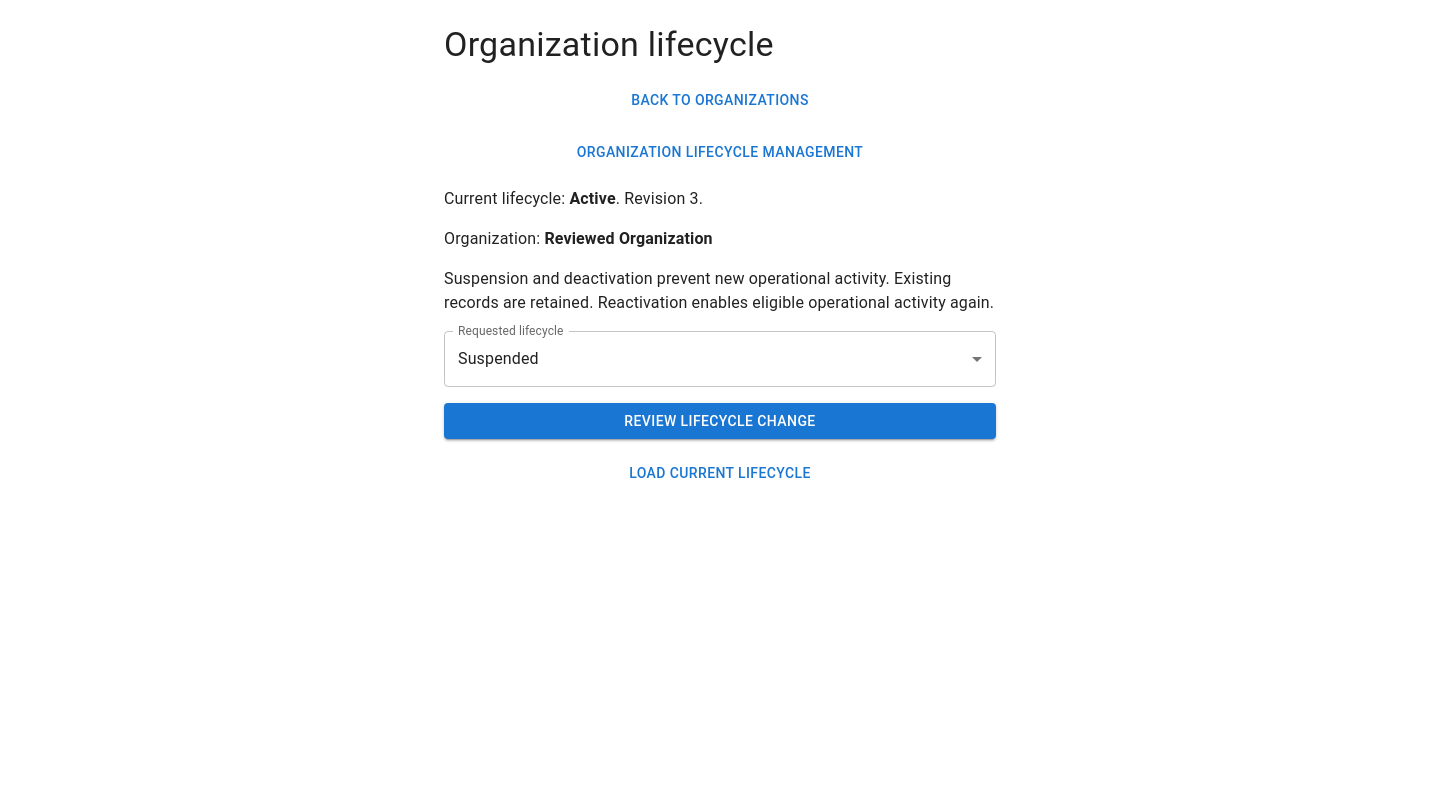
confirms one bound revision/key and acknowledges original state without claiming latest state
Click the button "Review lifecycle change".
click(720, 421)  # box [444,403,996,440]
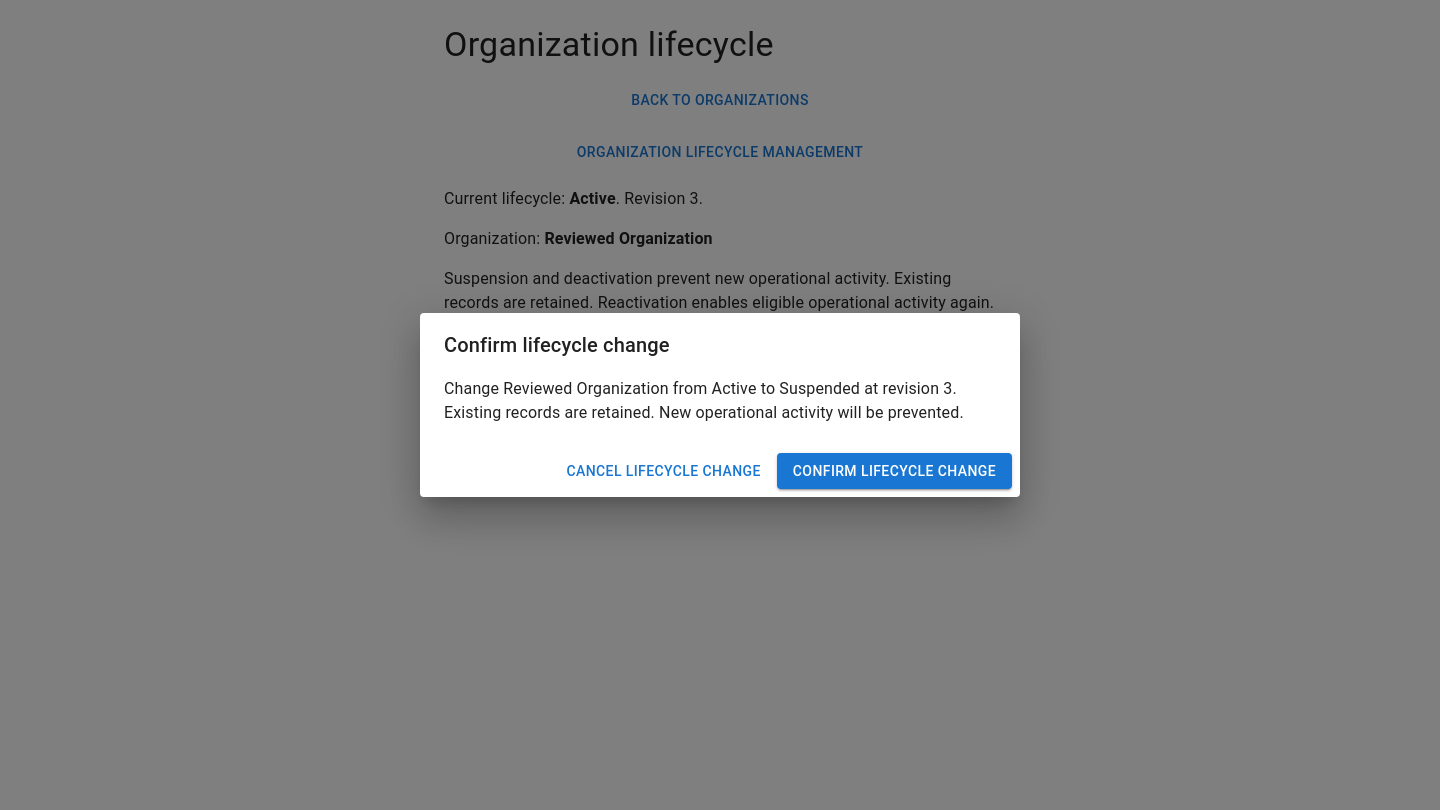
Click the button "Confirm lifecycle change".
click(894, 471)  # box [777,453,1012,489]
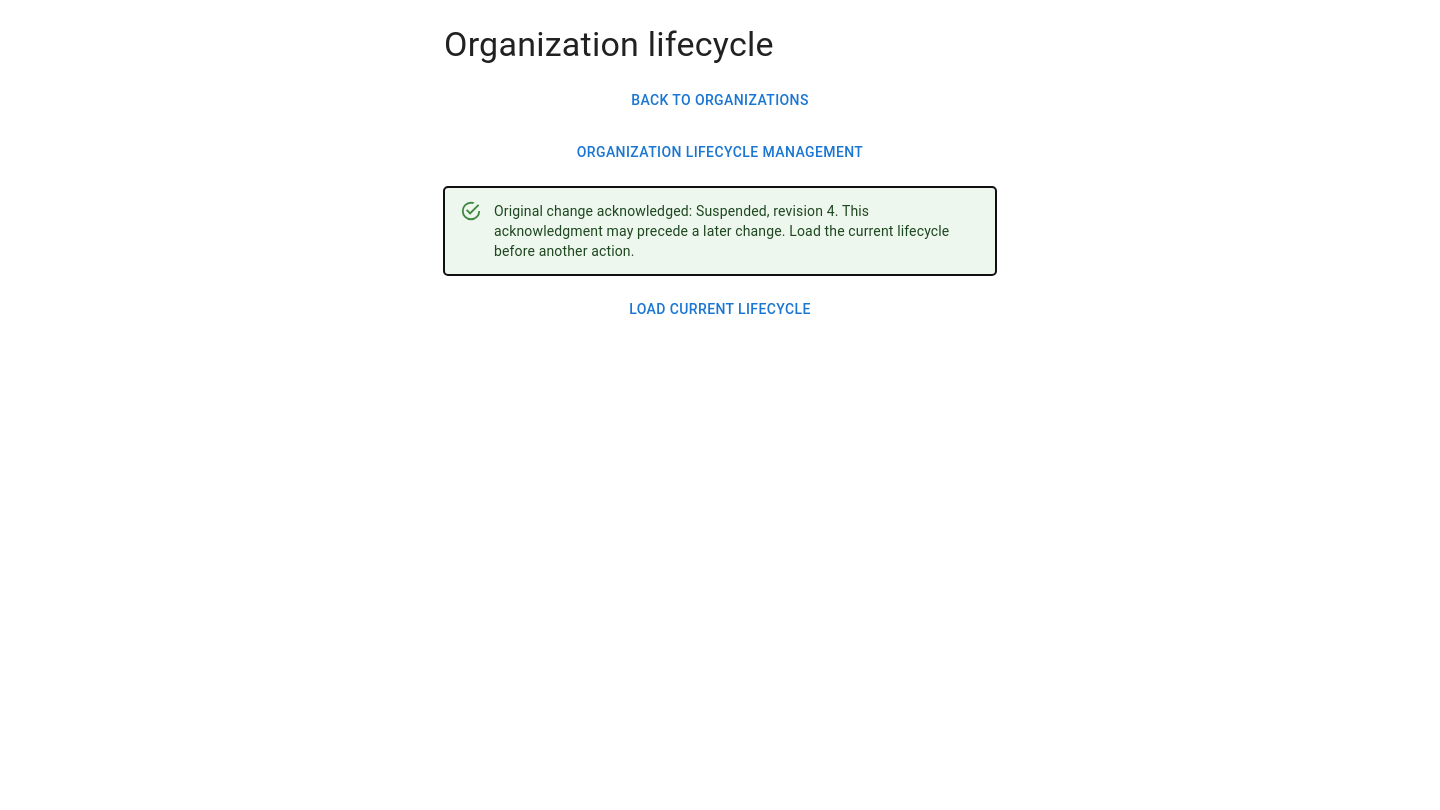
expect the message shows "Original change acknowledged: Suspended, revision 4.": met, box [444,187,996,275]
expect the button "Review lifecycle change" is gone: met
